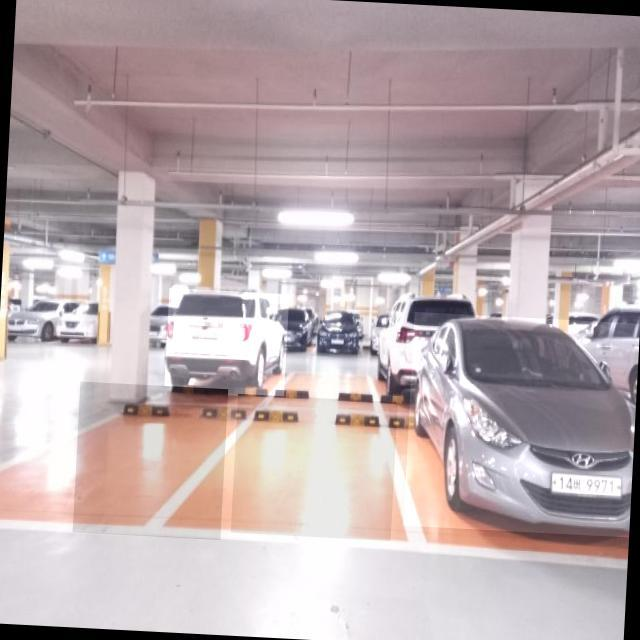empty: (231, 394, 398, 541), (73, 382, 228, 540)
occupied: (403, 311, 640, 537), (164, 288, 289, 398)
